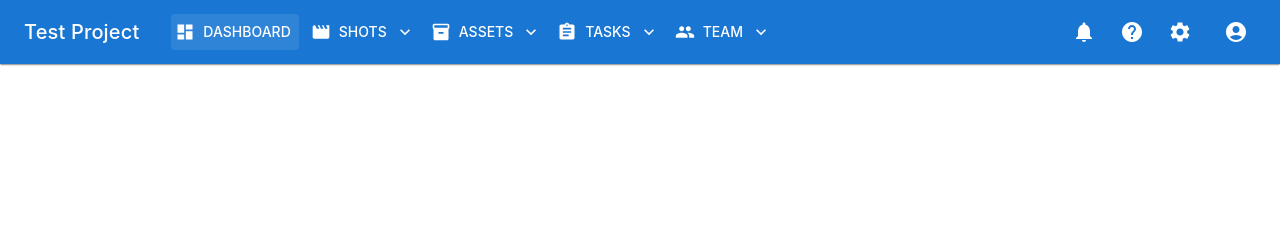
it: AppNavigation Component › Desktop Navigation › opens user menu when user icon is clicked
// Click user menu button
Click the button named "account".
click(1236, 32)  # box [1216,12,1256,52]
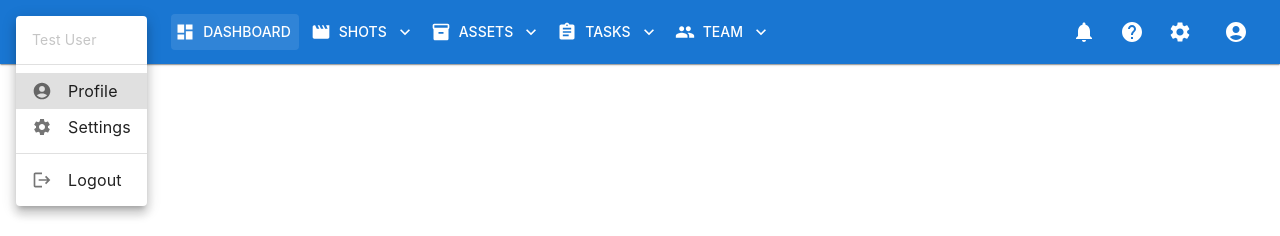
Now the text "Test User" is shown, box [32,30,97,50]
Now the menu item "Profile" is shown, box [16,73,147,109]
Now the menu item "Settings" is shown, box [32,117,131,137]
